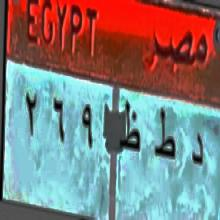2: (26, 84, 40, 148)
6: (52, 89, 70, 164)
9: (79, 91, 97, 161)
Taa: (150, 104, 177, 183)
Thaa: (117, 94, 141, 170)
daal: (188, 128, 206, 183)
